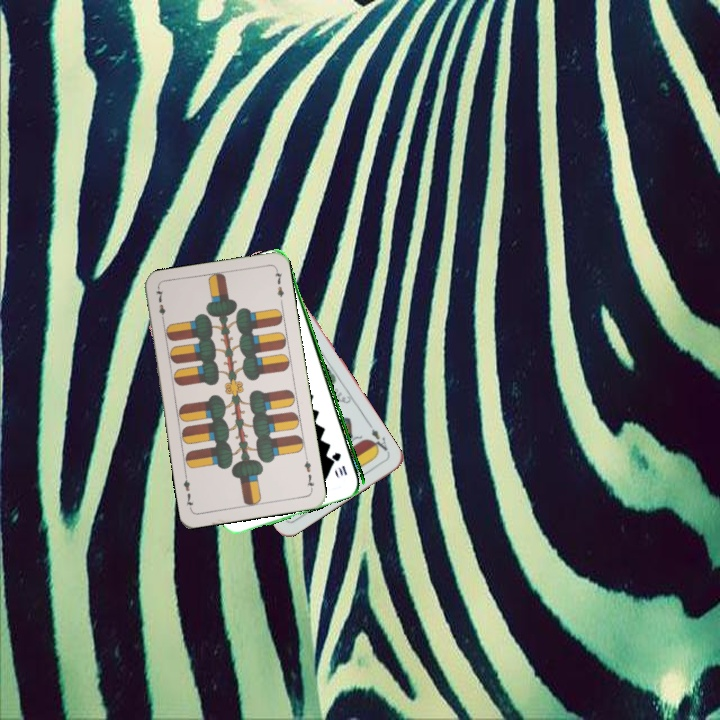E7: (300, 452, 317, 493), (152, 285, 168, 325)
EA: (365, 419, 392, 456)
G10: (330, 448, 350, 478)
